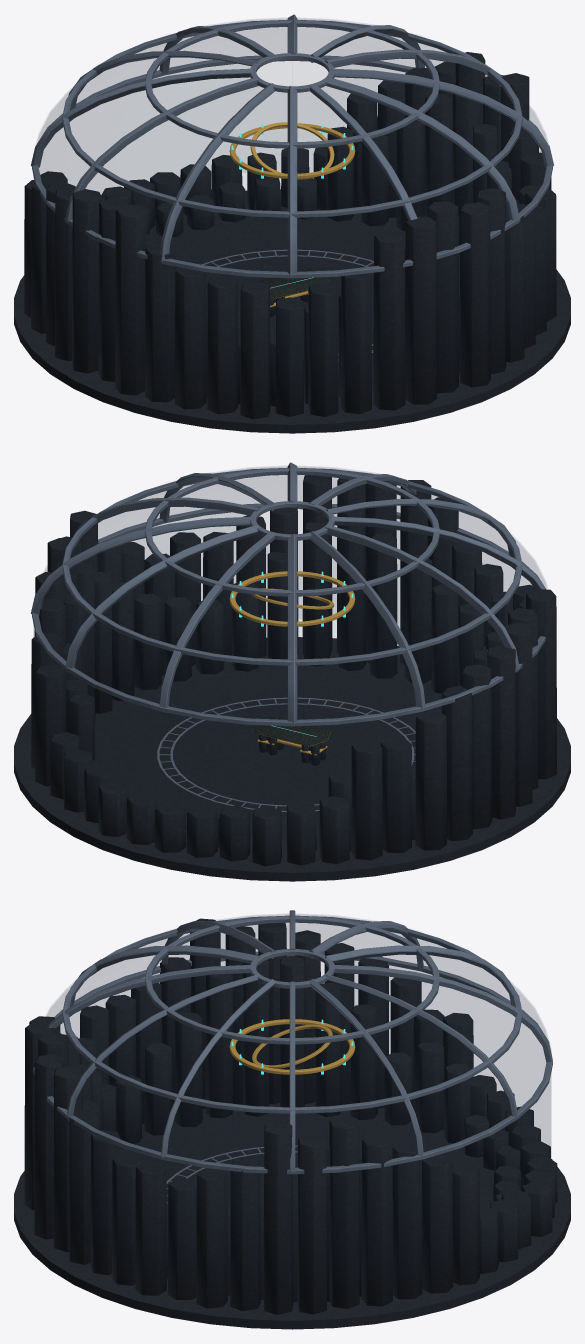
File: reykjavik_caldera_room.glb
3 views of the same model, one above another, from view 1: azimuth 30°, elevation 25°; view 2: azimuth 150°, elevation 25°; view 3: azimuth 270°, elevation 25° (orthographic).
Visible parts, largest first — view 1: Reykjavik_Basalt_Columns, Reykjavik_Dome_Titanium, Reykjavik_Window_Glass, Reykjavik_Floor_Basalt, Aurora_Ring_Brass, Reykjavik_Table_Obsidian, Reykjavik_Floor_Grates; view 2: Reykjavik_Basalt_Columns, Reykjavik_Floor_Basalt, Reykjavik_Dome_Titanium, Reykjavik_Window_Glass, Reykjavik_Floor_Grates, Aurora_Ring_Brass, Reykjavik_Table_Obsidian, Reykjavik_Table_Basalt; view 3: Reykjavik_Basalt_Columns, Reykjavik_Dome_Titanium, Reykjavik_Floor_Basalt, Reykjavik_Window_Glass, Aurora_Ring_Brass.
Boxes of the visible parts, box(x1,y1,x2,y2) form: Reykjavik_Basalt_Columns: box(24, 52, 556, 419); Reykjavik_Dome_Titanium: box(31, 14, 553, 278); Reykjavik_Window_Glass: box(37, 18, 550, 389); Reykjavik_Floor_Basalt: box(14, 189, 570, 433); Aurora_Ring_Brass: box(229, 122, 355, 179); Reykjavik_Table_Obsidian: box(255, 268, 330, 298); Reykjavik_Floor_Grates: box(201, 249, 373, 360); Reykjavik_Basalt_Columns: box(31, 475, 556, 866); Reykjavik_Floor_Basalt: box(14, 637, 570, 881); Reykjavik_Dome_Titanium: box(31, 462, 546, 726); Reykjavik_Window_Glass: box(34, 466, 546, 837); Reykjavik_Floor_Grates: box(157, 697, 415, 811); Aurora_Ring_Brass: box(229, 571, 355, 626); Reykjavik_Table_Obsidian: box(254, 716, 330, 746); Reykjavik_Table_Basalt: box(259, 734, 325, 765); Reykjavik_Basalt_Columns: box(24, 918, 557, 1314); Reykjavik_Dome_Titanium: box(33, 910, 552, 1174); Reykjavik_Floor_Basalt: box(14, 1102, 570, 1329); Reykjavik_Window_Glass: box(47, 914, 550, 1285); Aurora_Ring_Brass: box(229, 1019, 355, 1074).
Size of the model in its own units: 16.4 by 8 by 16.35.
Materials: 7 (2 with a texture image).
